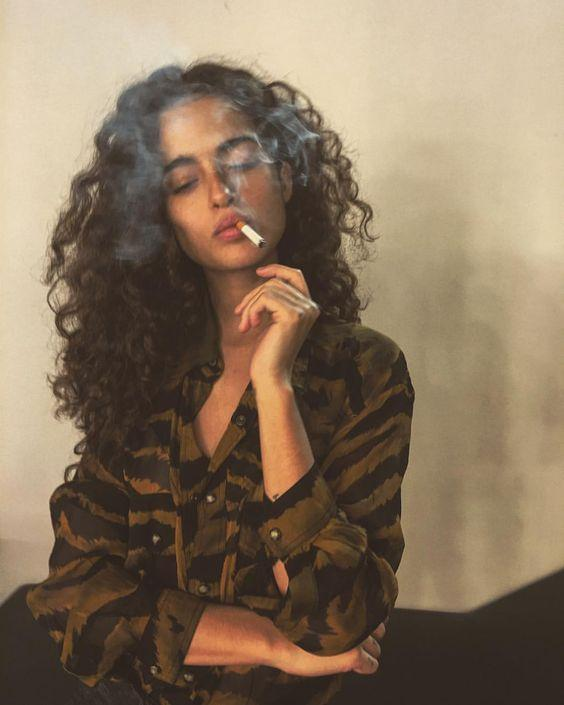cigarette: (235, 220, 265, 248)
